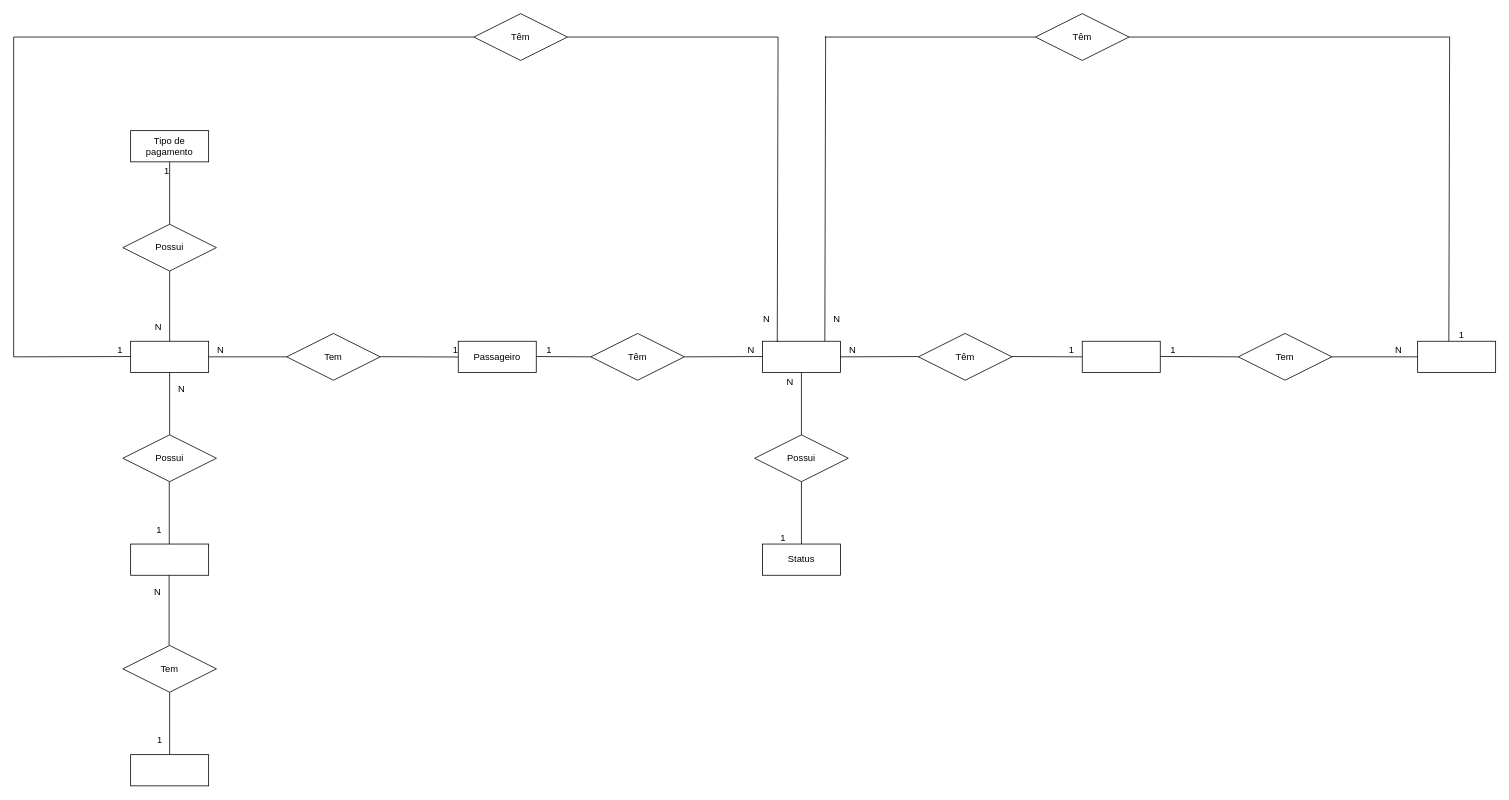
Some shapes in this 1509 by 800 pixel diagram are drawn without their labels. The shapes that lost their labels are listed below. From the top down, each one's centre as x and y in pixels, then its label:
At [169,356]: "Forma de Pagamento".
At [801,356]: "Corrida".
At [1120,356]: "Motorista".
At [1456,356]: "Conta bancária".
At [169,559]: "Cartao".
At [169,770]: "Bandeira".
